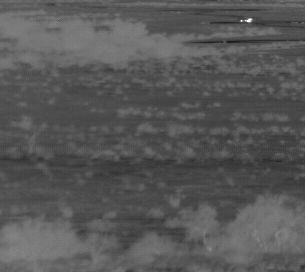Target: (240, 19, 251, 23)
